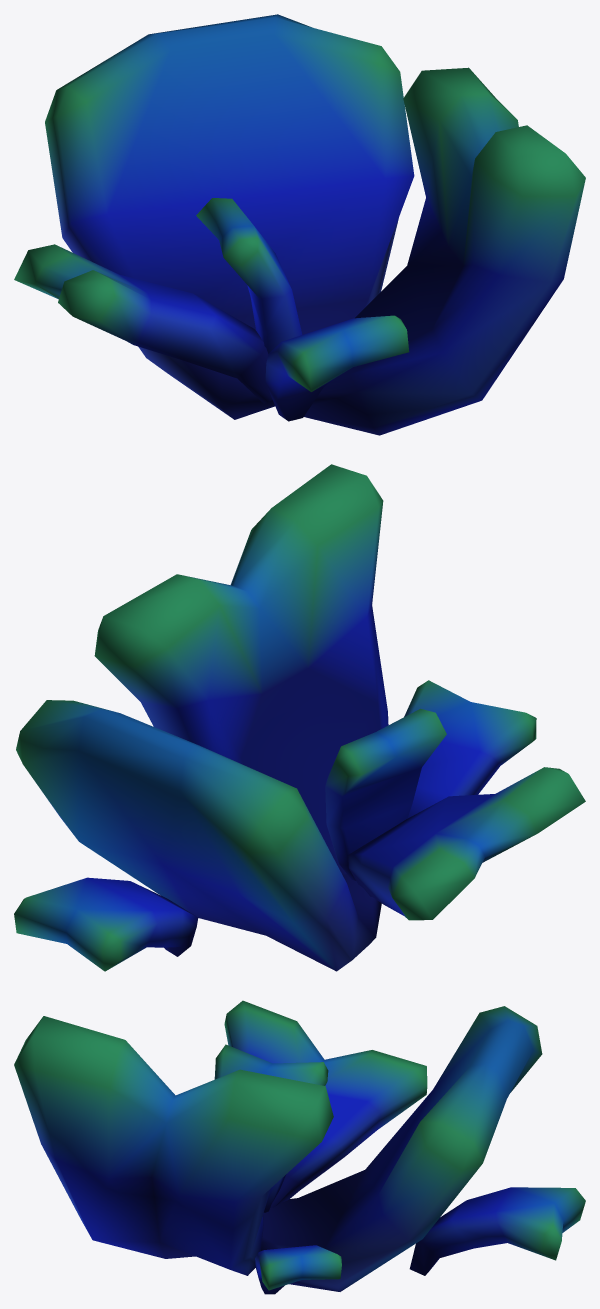
Rendered from Alien_Grass07.fbx.
3 renders of one model, top to bottom at view 1: azimuth 30°, elevation 25°; view 2: azimuth 150°, elevation 25°; view 3: azimuth 270°, elevation 25°, orthographic. The views are drawn at different scales.
Visible parts, largest first — view 1: Alien_Grass07; view 2: Alien_Grass07; view 3: Alien_Grass07.
Boxes of the visible parts, bbox=[...] form: Alien_Grass07: bbox=[14, 14, 585, 435]; Alien_Grass07: bbox=[14, 464, 585, 971]; Alien_Grass07: bbox=[14, 1000, 585, 1294].
Size of the model in its own units: 1668 by 1139 by 2047.
